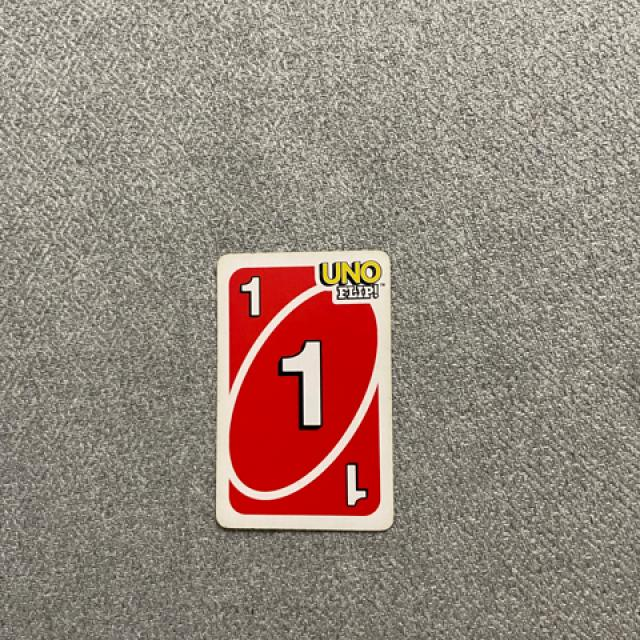lred-1: (225, 264, 283, 332)
